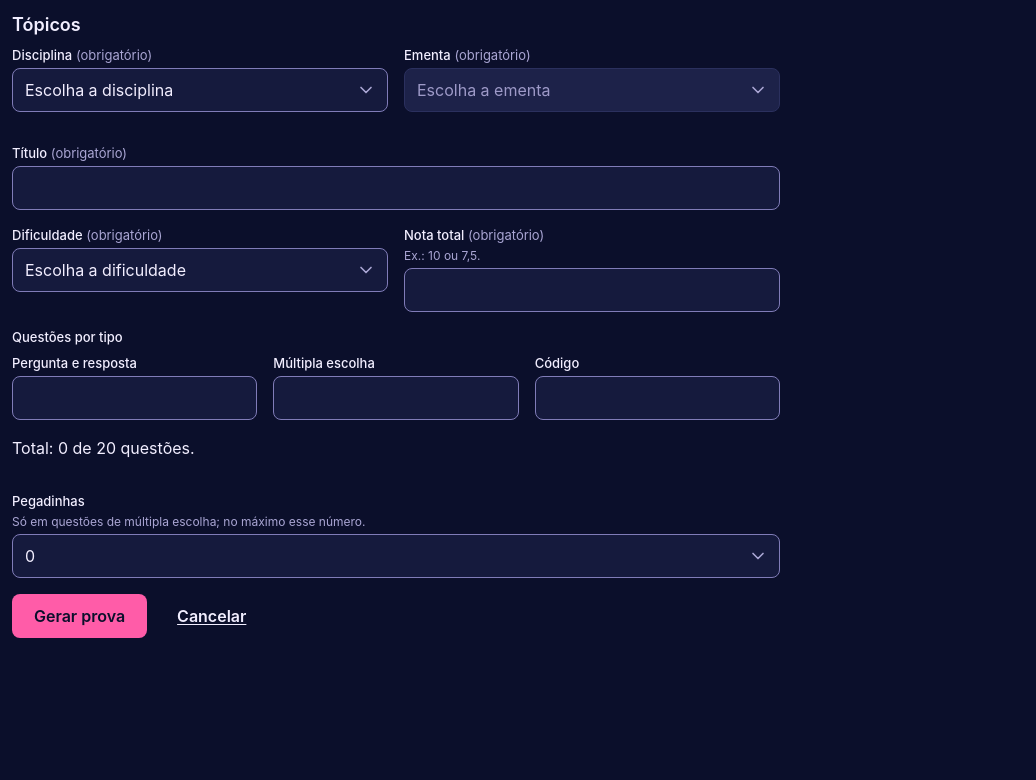
018/US7 ExamGenerationForm — Criar prova com IA › ementa sem linguagem: Código indisponível
Select "Programação Orientada a Objetos" in the dropdown labelled "Disciplina (obrigatório)" at (200, 90), box [12,68,388,112]
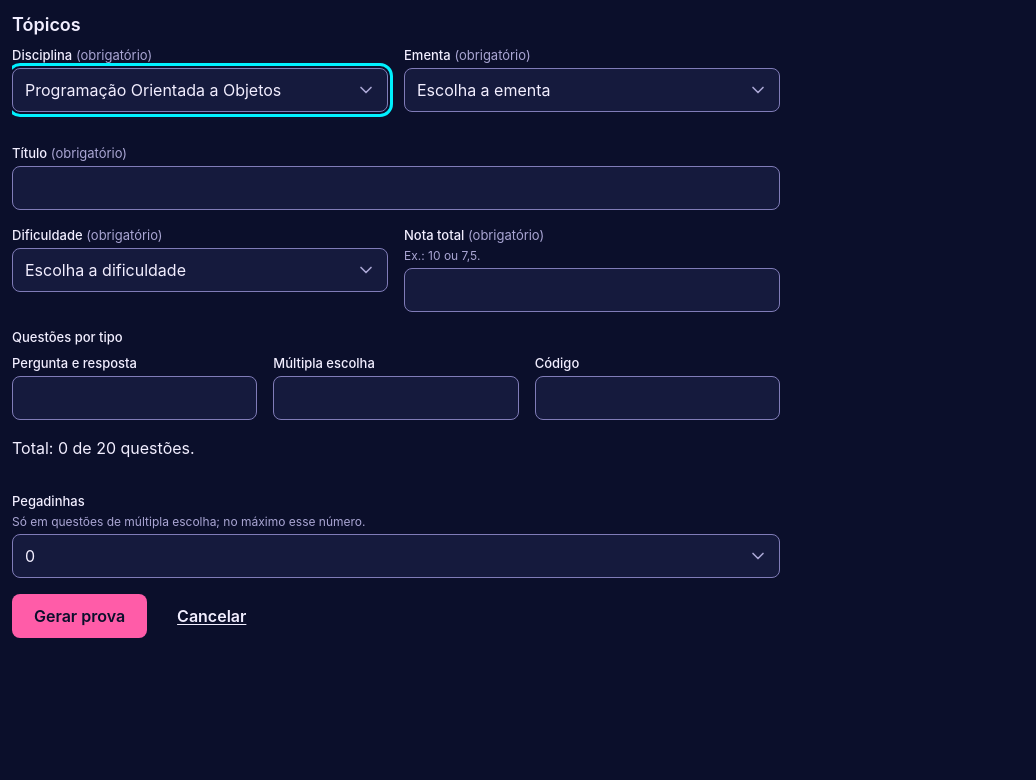
Select "Versão 1" in the dropdown labelled "Ementa (obrigatório)" at (592, 90), box [404,68,780,112]
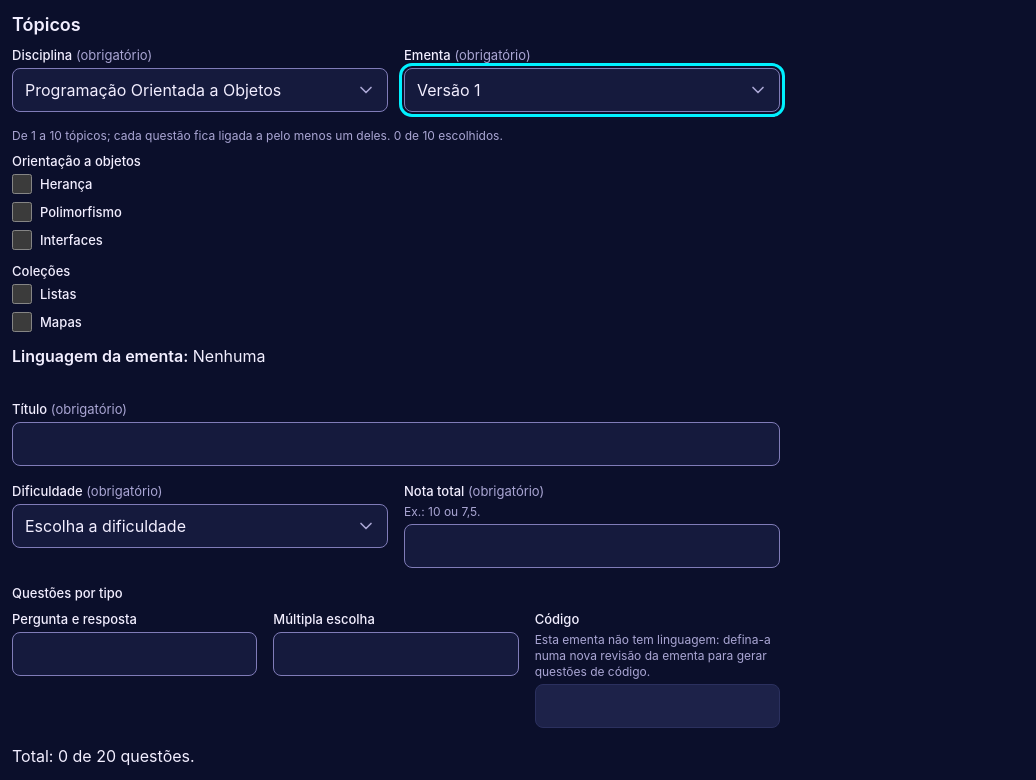
Result: the element named "Tópicos da prova" is shown at [12,128,503,366]
Result: the number field labelled "Código" is disabled at [535,684,780,728]
Result: the text "Esta ementa não tem linguagem" is shown at [535,632,771,679]
